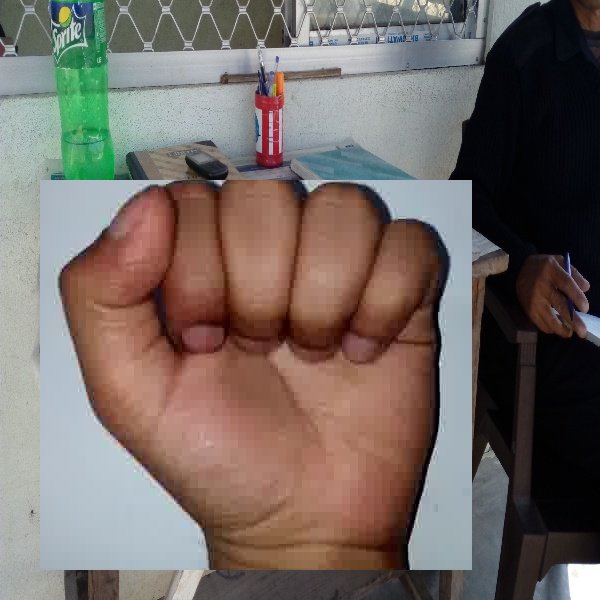A: (40, 180, 472, 570)
